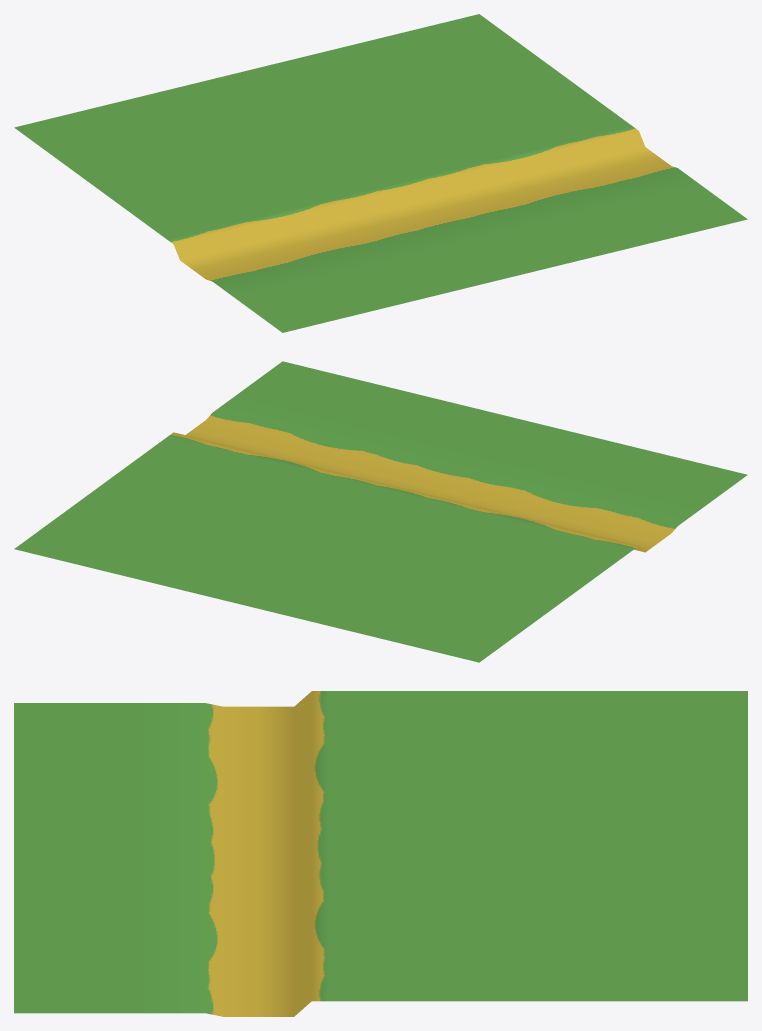
The model's file is Ground Test 1.fbx.
3 renders of one model, top to bottom at view 1: azimuth 30°, elevation 25°; view 2: azimuth 150°, elevation 25°; view 3: azimuth 270°, elevation 25°, orthographic. The views are drawn at different scales.
Parts seen in each view (by area): view 1: Plane; view 2: Plane; view 3: Plane.
Boxes of the visible parts, <box> form: Plane: <box>14,14,747,332</box>; Plane: <box>14,361,747,662</box>; Plane: <box>14,691,747,1016</box>.
Size of the model in its own units: 60 by 60 by 1.41.
